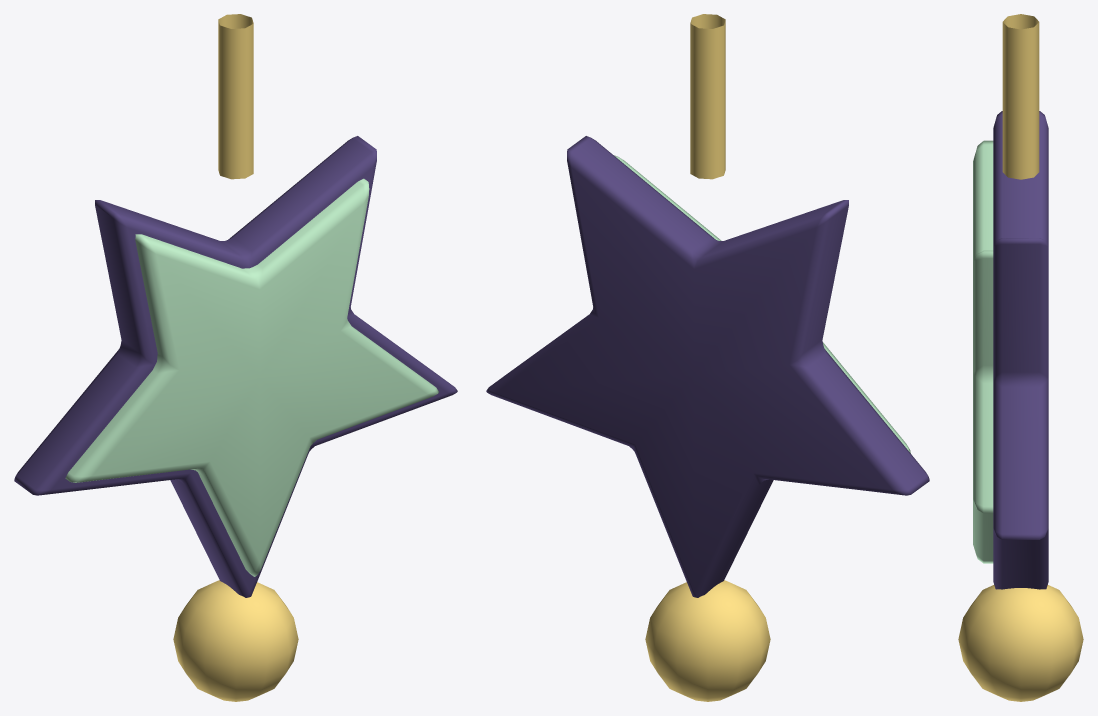
Rendered from star_bell_2.glb.
3 views of the same model, side by side, from view 1: azimuth 30°, elevation 25°; view 2: azimuth 150°, elevation 25°; view 3: azimuth 270°, elevation 25° (orthographic).
Parts seen in each view (by area): view 1: StarFace.003, StarInk.003, Clapper.002, Hanger.002; view 2: StarInk.003, Clapper.002, Hanger.002, StarFace.003; view 3: StarInk.003, Clapper.002, StarFace.003, Hanger.002.
Boxes of the visible parts, x1,y1,x2,y2 form: StarFace.003: [65, 178, 438, 576]; StarInk.003: [14, 136, 457, 597]; Clapper.002: [173, 580, 298, 701]; Hanger.002: [218, 14, 253, 179]; StarInk.003: [486, 136, 929, 597]; Clapper.002: [645, 580, 770, 701]; Hanger.002: [690, 14, 725, 179]; StarFace.003: [614, 155, 910, 453]; StarInk.003: [993, 111, 1048, 589]; Clapper.002: [958, 585, 1083, 701]; StarFace.003: [973, 140, 993, 563]; Hanger.002: [1002, 14, 1039, 179].
Bounding box in the file's own units: 2.66 × 4.04 × 0.68.
